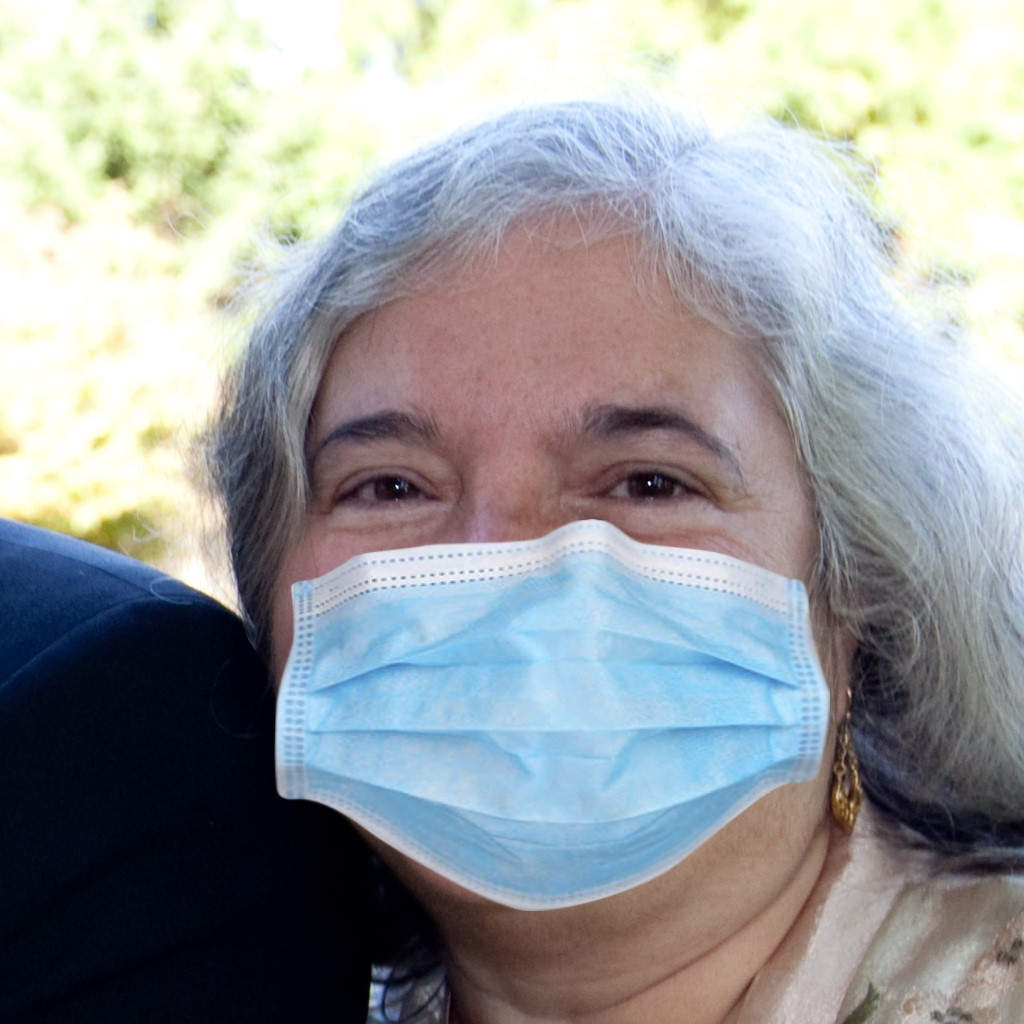con_mascara: (253, 96, 902, 972)
